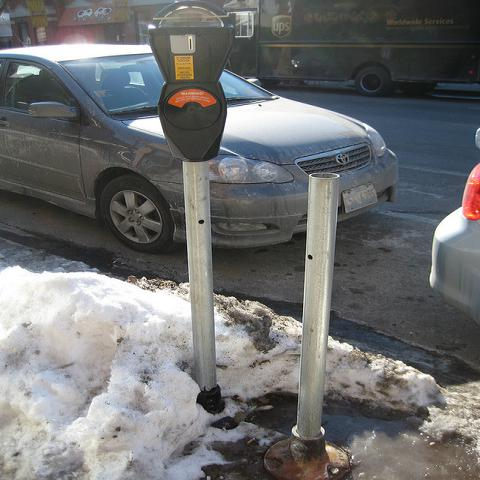car: (1, 41, 401, 252), (430, 167, 479, 327)
truck: (222, 0, 477, 94)
